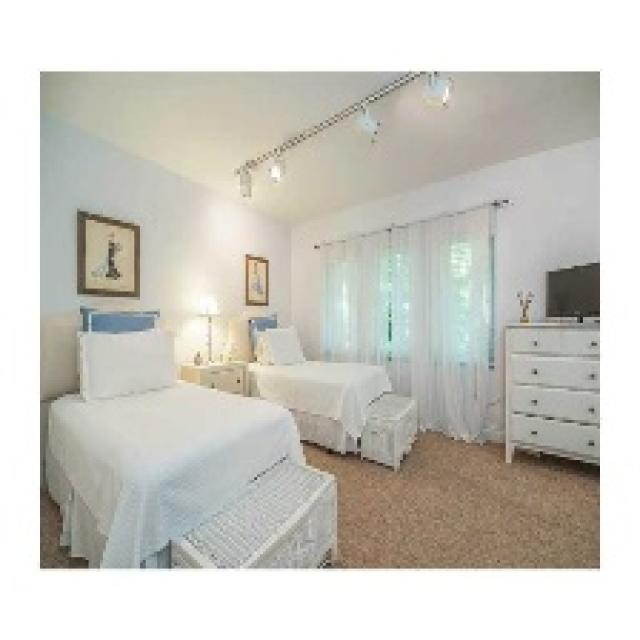Bed: (43, 306, 308, 566)
